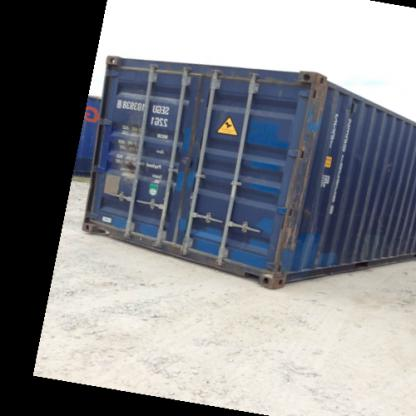Damage: (291, 86, 327, 196), (347, 205, 415, 247), (273, 195, 303, 263)
